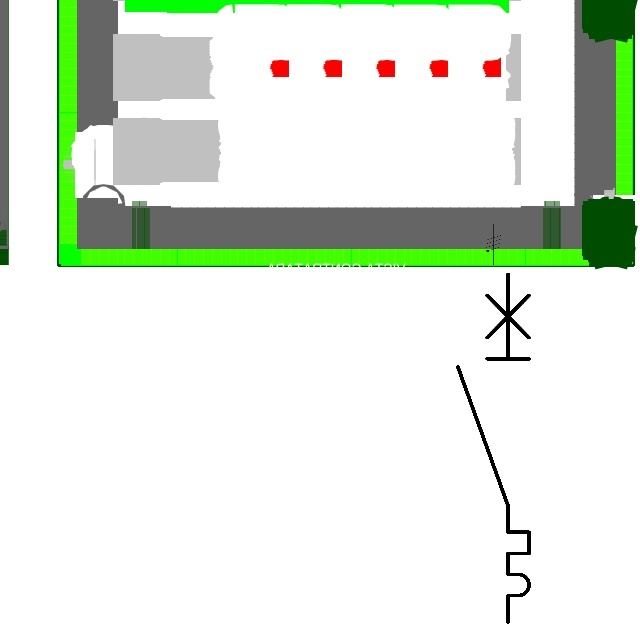interruptor_termomagnetico: (449, 265, 538, 630)
